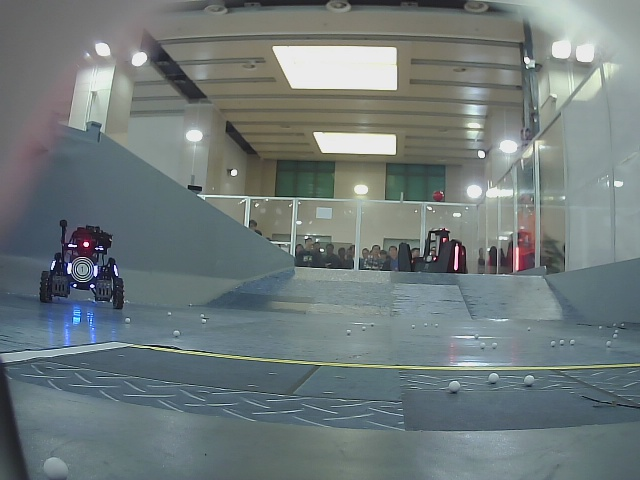lamp: (91, 263, 99, 280), (66, 262, 73, 275)
pair: (66, 261, 98, 277)
